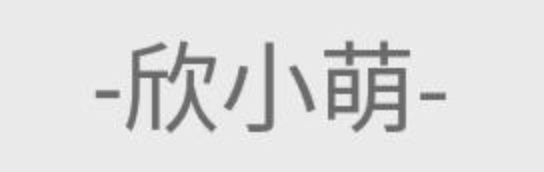TextView: (1, 1, 543, 171)
